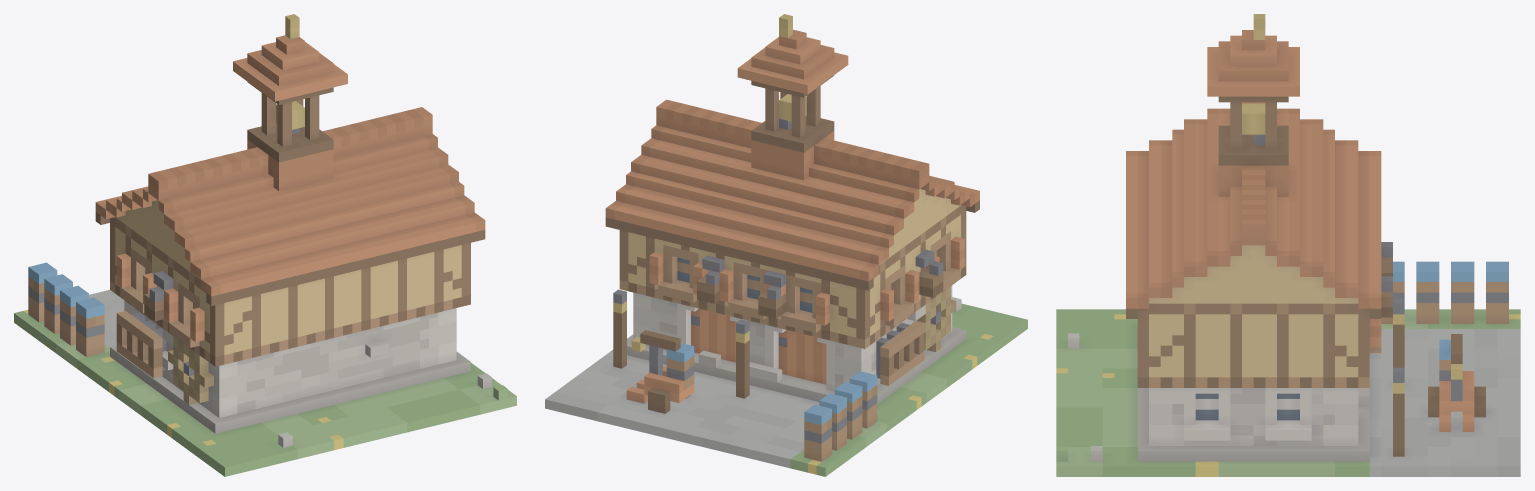
The model's file is fire_station.glb.
3 renders of one model, left to right at view 1: azimuth 30°, elevation 25°; view 2: azimuth 150°, elevation 25°; view 3: azimuth 270°, elevation 25°, orthographic. The views are drawn at different scales.
Parts seen in each view (by area): view 1: fire_station; view 2: fire_station; view 3: fire_station.
Part boxes in pixels (x1,y1,x2,y2): fire_station: (14,14,516,476); fire_station: (545,14,1027,476); fire_station: (1056,14,1520,476).
Bounding box in the file's own units: 4 × 4.62 × 5.
